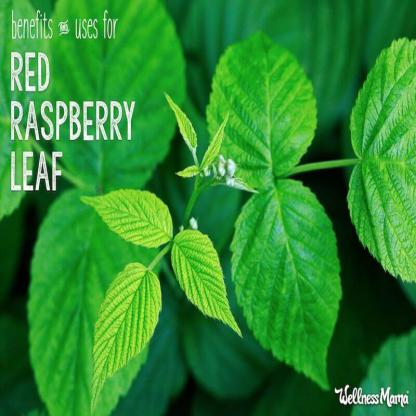Raspberry leaf: (230, 180, 344, 395), (207, 16, 318, 180), (85, 256, 163, 415), (170, 226, 243, 339), (77, 187, 175, 247)
